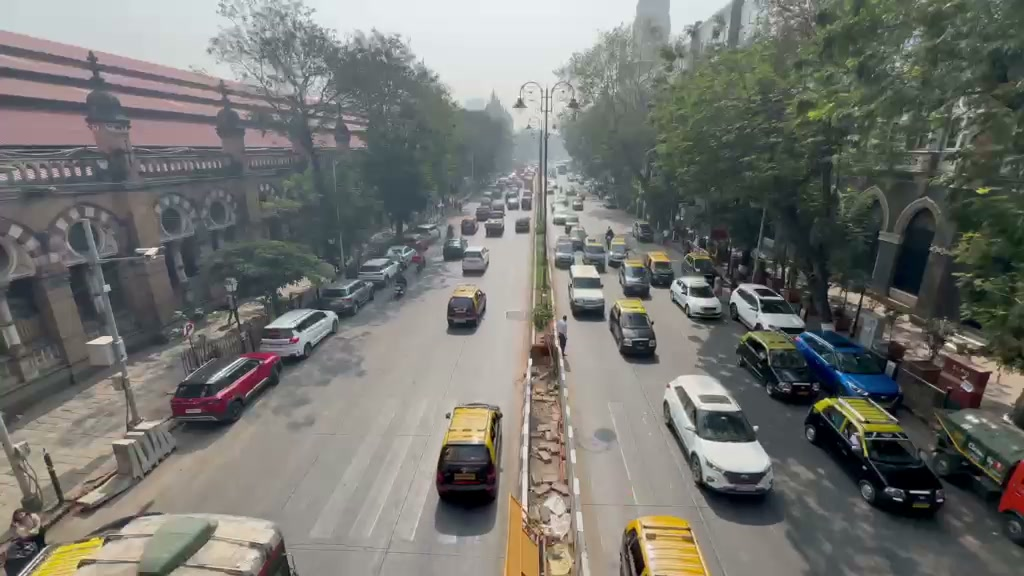car: (801, 393, 947, 517), (17, 512, 292, 575), (661, 372, 775, 500), (793, 329, 904, 409), (930, 407, 1024, 494), (170, 350, 282, 423), (435, 403, 503, 503), (733, 327, 818, 403), (618, 514, 715, 576), (258, 306, 338, 359), (730, 284, 806, 333), (610, 299, 658, 360), (668, 275, 724, 320), (316, 277, 375, 317), (997, 459, 1024, 546), (445, 283, 488, 332), (567, 266, 606, 320), (357, 257, 408, 298), (618, 262, 652, 298), (462, 247, 490, 275)
pedestrian: (0, 509, 44, 576)
truck: (801, 394, 947, 516), (930, 407, 1023, 495)
